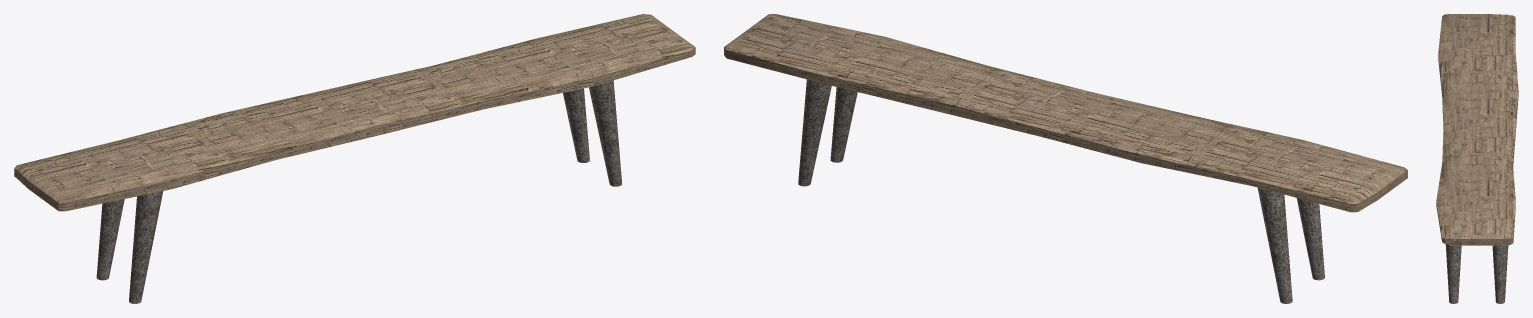
The model's file is bench_middle_c_fbx.FBX.
The picture shows the model from 3 angles, left to right: view 1: azimuth 30°, elevation 25°; view 2: azimuth 150°, elevation 25°; view 3: azimuth 270°, elevation 25°; orthographic projection. The views are drawn at different scales.
Parts seen in each view (by area): view 1: bench_middle_c; view 2: bench_middle_c; view 3: bench_middle_c.
Boxes of the visible parts, bbox=[...] form: bench_middle_c: bbox=[14, 14, 695, 303]; bench_middle_c: bbox=[724, 14, 1407, 303]; bench_middle_c: bbox=[1436, 14, 1518, 303].
Size of the model in its own units: 162 by 24.97 by 30.59.
